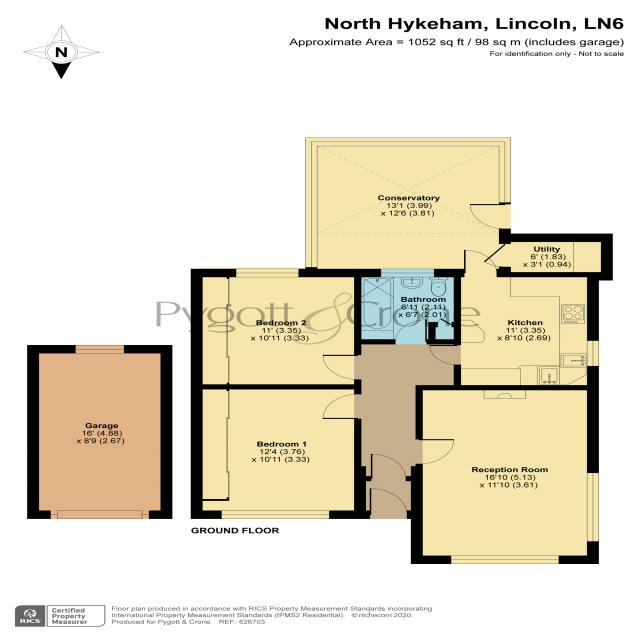DOOR: (367, 487, 409, 519), (414, 437, 457, 466), (320, 353, 362, 381), (369, 453, 408, 481), (322, 393, 362, 420), (462, 249, 499, 277), (394, 319, 429, 345), (428, 343, 462, 366)
ROOM: (410, 385, 600, 564), (428, 249, 599, 391), (190, 384, 367, 519), (190, 268, 362, 390)
WINDOW: (449, 554, 561, 565), (219, 509, 331, 520), (584, 472, 601, 543), (235, 268, 300, 278), (379, 268, 436, 278), (586, 340, 600, 367)
